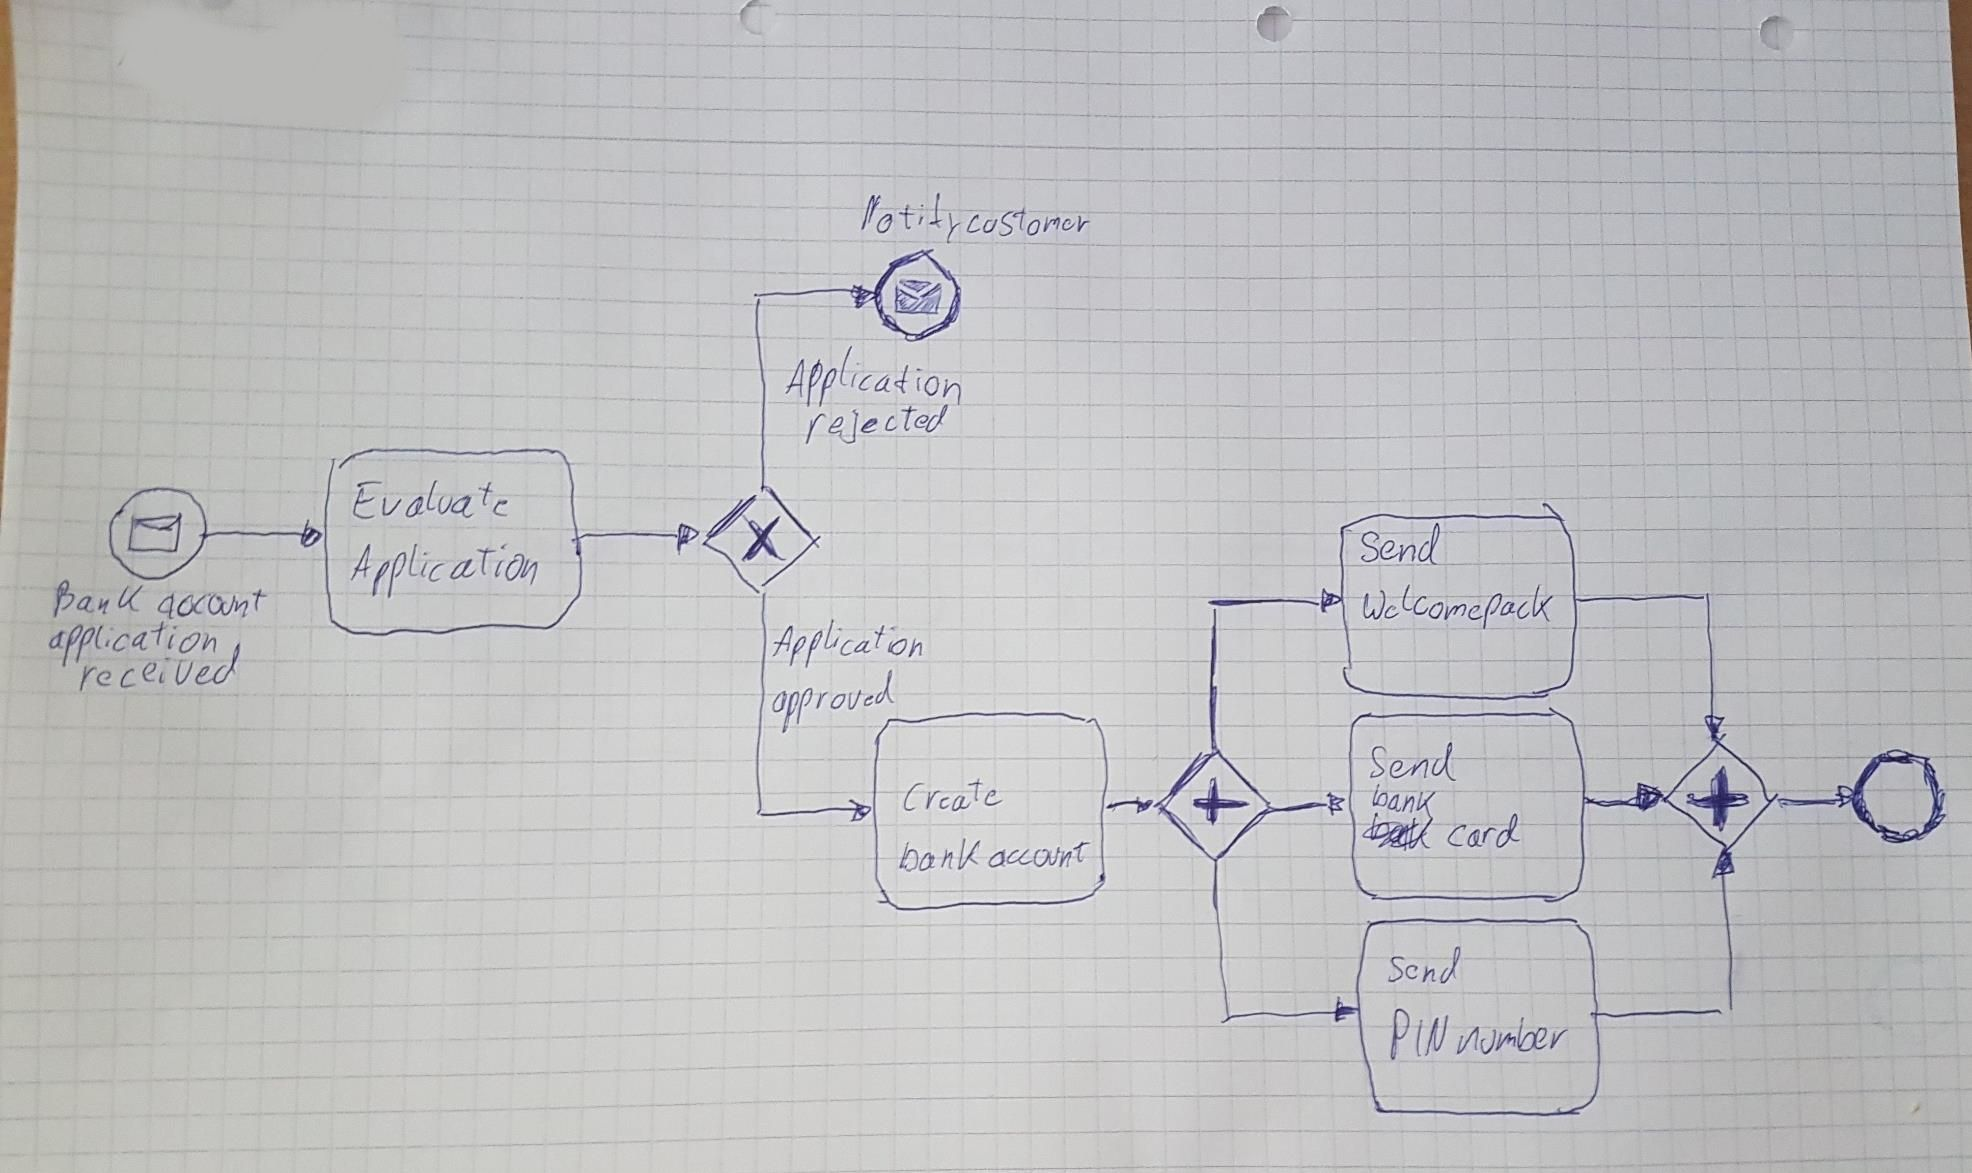Application: (780, 341, 978, 411), (345, 540, 546, 596), (770, 614, 928, 667)
Bank: (47, 570, 147, 620)
Create: (903, 767, 1010, 817)
Evaluate: (353, 472, 515, 524)
Notity: (851, 190, 964, 250)
PIN: (1382, 997, 1450, 1075)
Send: (1365, 737, 1463, 782)
Welcomepack: (1359, 580, 1479, 634)
account: (154, 578, 276, 628), (989, 831, 1096, 873)
application: (20, 614, 255, 662)
approved: (768, 666, 910, 742)
bank: (900, 836, 985, 876), (1365, 783, 1442, 816)
card: (1447, 813, 1525, 852)
customer: (957, 197, 1105, 242)
number: (1456, 1010, 1574, 1058)
pack: (1481, 578, 1562, 638)
received: (77, 654, 251, 693)
rejected: (804, 399, 953, 447)
send: (1357, 517, 1446, 582), (1382, 943, 1471, 996)
